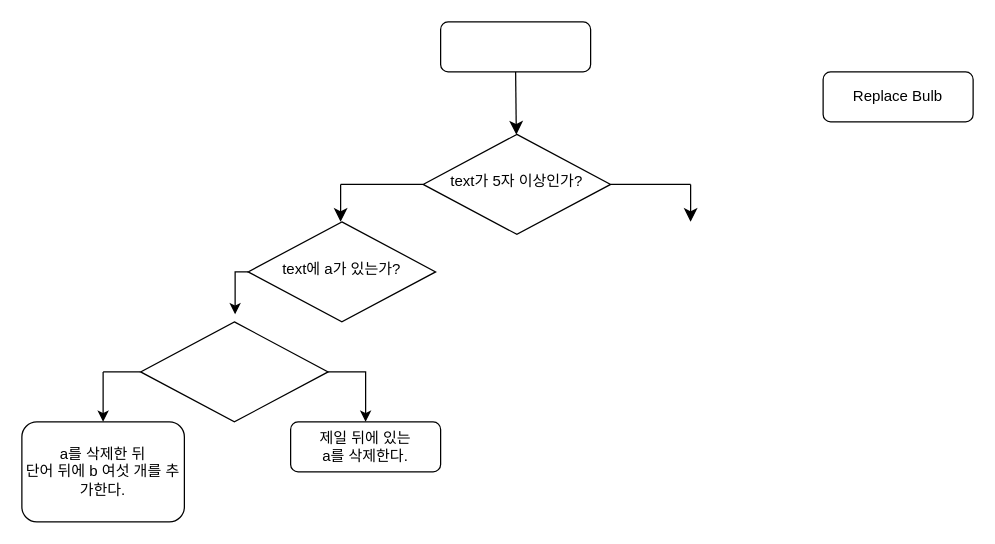
Some shapes in this 995 by 544 pixel diagram are drawn without their labels. The shapes that lost their labels are listed below. From the top down, each one's centre as x and y in pixels, then its label:
(515,46): 시작
(233,371): a가 딱 하나인가?
